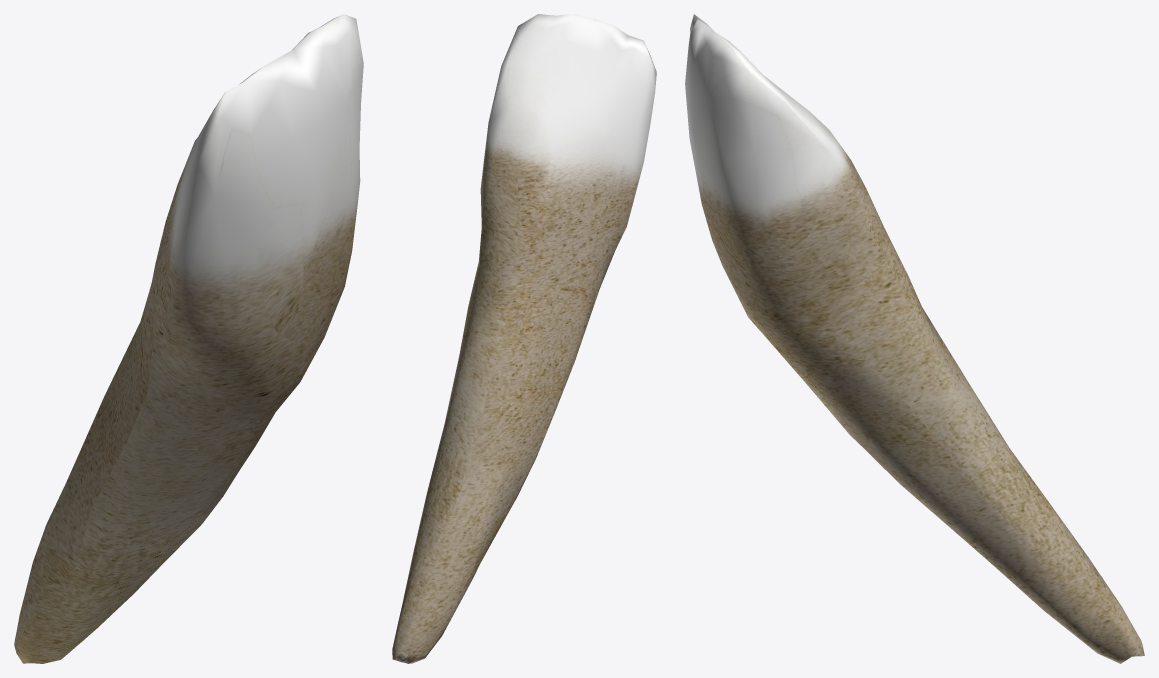
Rendered from эрүүний хажуугийн үүдэн шүд.fbx.
The picture shows the model from 3 angles, left to right: view 1: azimuth 30°, elevation 25°; view 2: azimuth 150°, elevation 25°; view 3: azimuth 270°, elevation 25°; orthographic projection. The views are drawn at different scales.
Parts seen in each view (by area): view 1: polySurface48; view 2: polySurface48; view 3: polySurface48.
Boxes of the visible parts, x1,y1,x2,y2 form: polySurface48: [14, 14, 363, 663]; polySurface48: [392, 14, 656, 663]; polySurface48: [685, 14, 1144, 663].
Size of the model in its own units: 2.25 by 8.77 by 5.76.
Materials: 1 (1 with a texture image).
